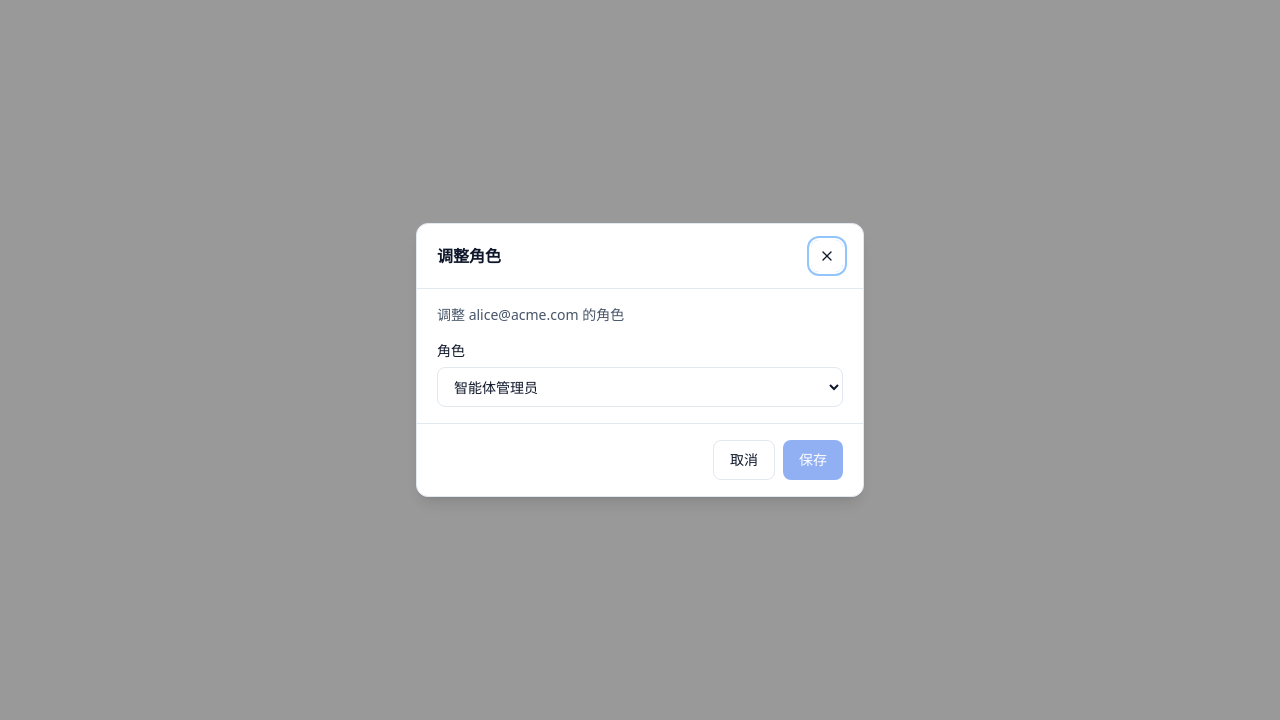
it: RoleChangeDialog › renders a refused permission as a readable failure
The width and height of the screenshot is (1280, 720).
Step 1. Select "员工" in the dropdown labelled "角色" → [640, 387], box [437,367,843,407]
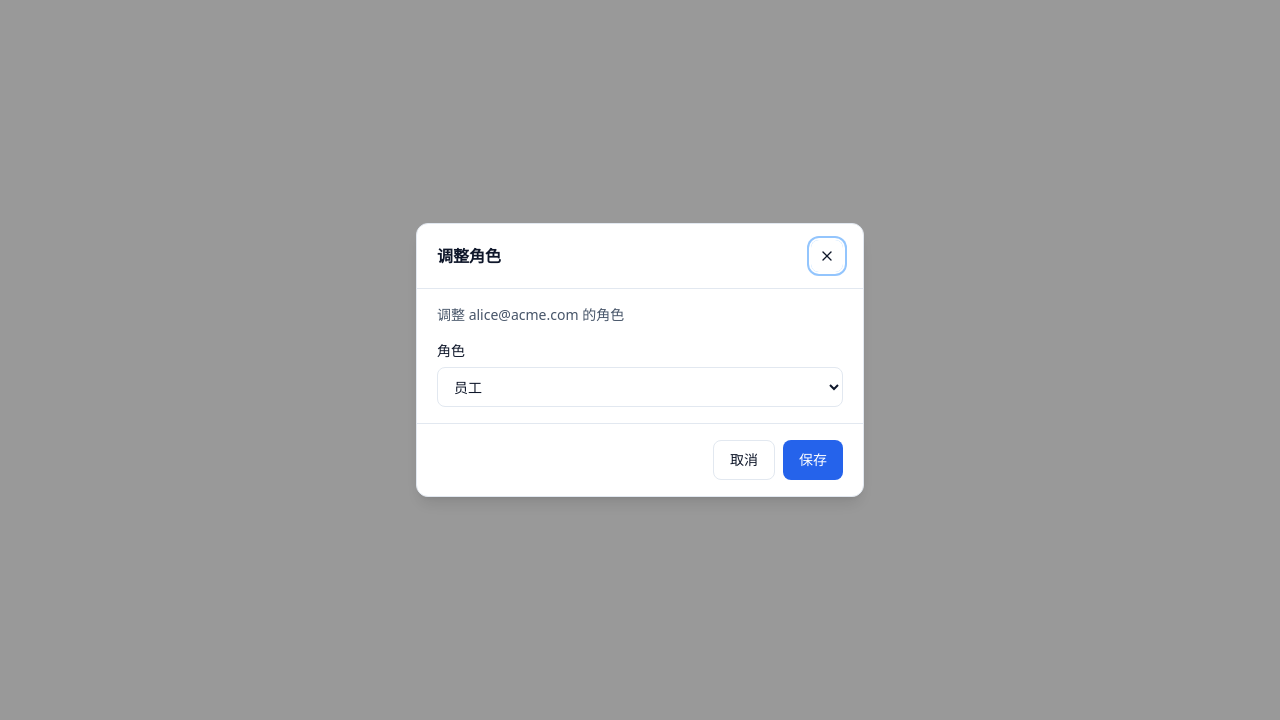
Step 2. Click the button "保存" → [813, 460], box [783,440,843,480]
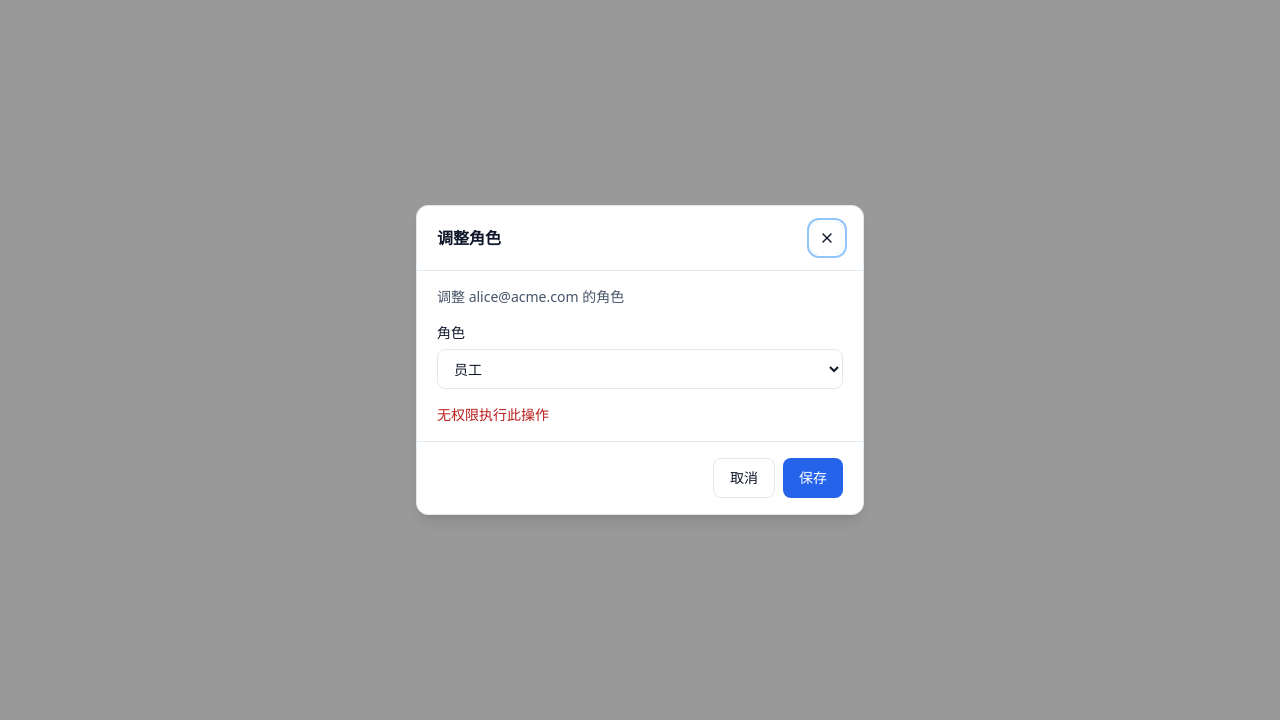
Now the message reads "无权限执行此操作", box [437,405,549,424]
